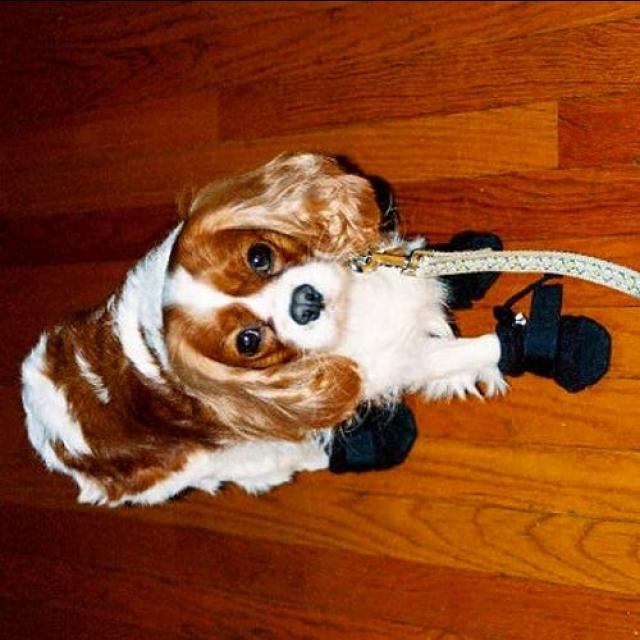blenheim_spaniel: (19, 146, 611, 511)
